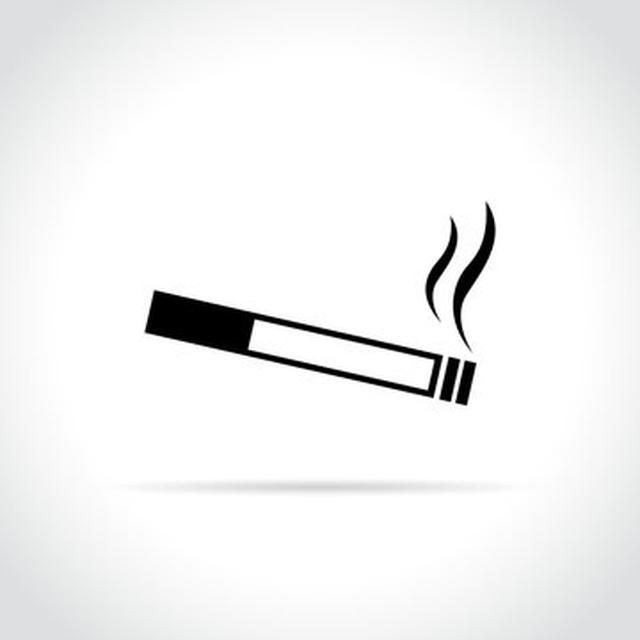Cigarette: (143, 196, 503, 406)
